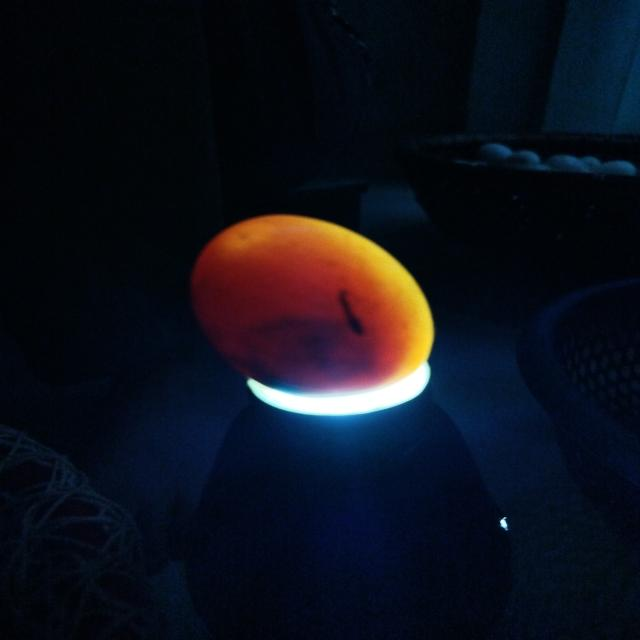Area Infectada: (199, 288, 376, 395)
